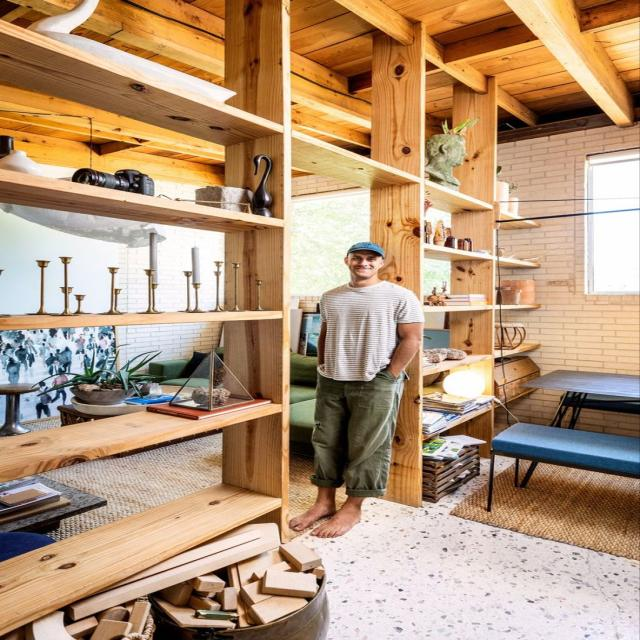obstacle: (519, 369, 639, 430)
person: (288, 241, 425, 538)
